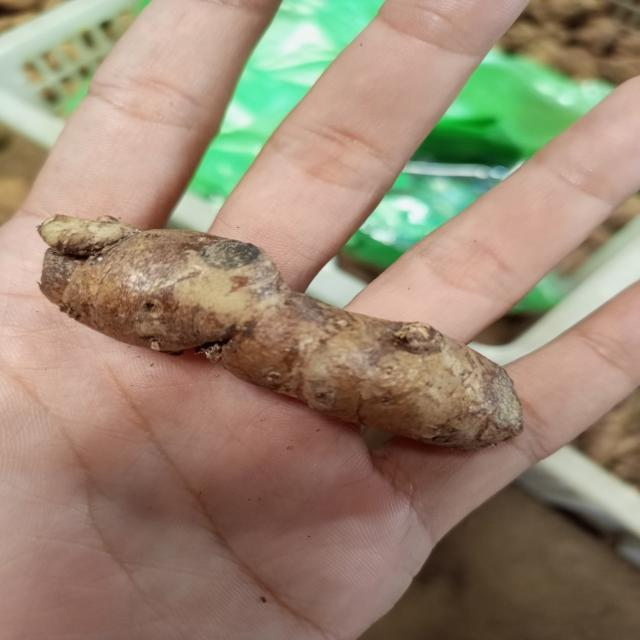ginger: (45, 214, 518, 443)
